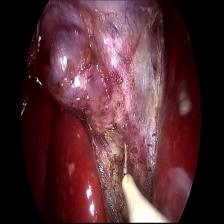Hook: (119, 140, 170, 224)
